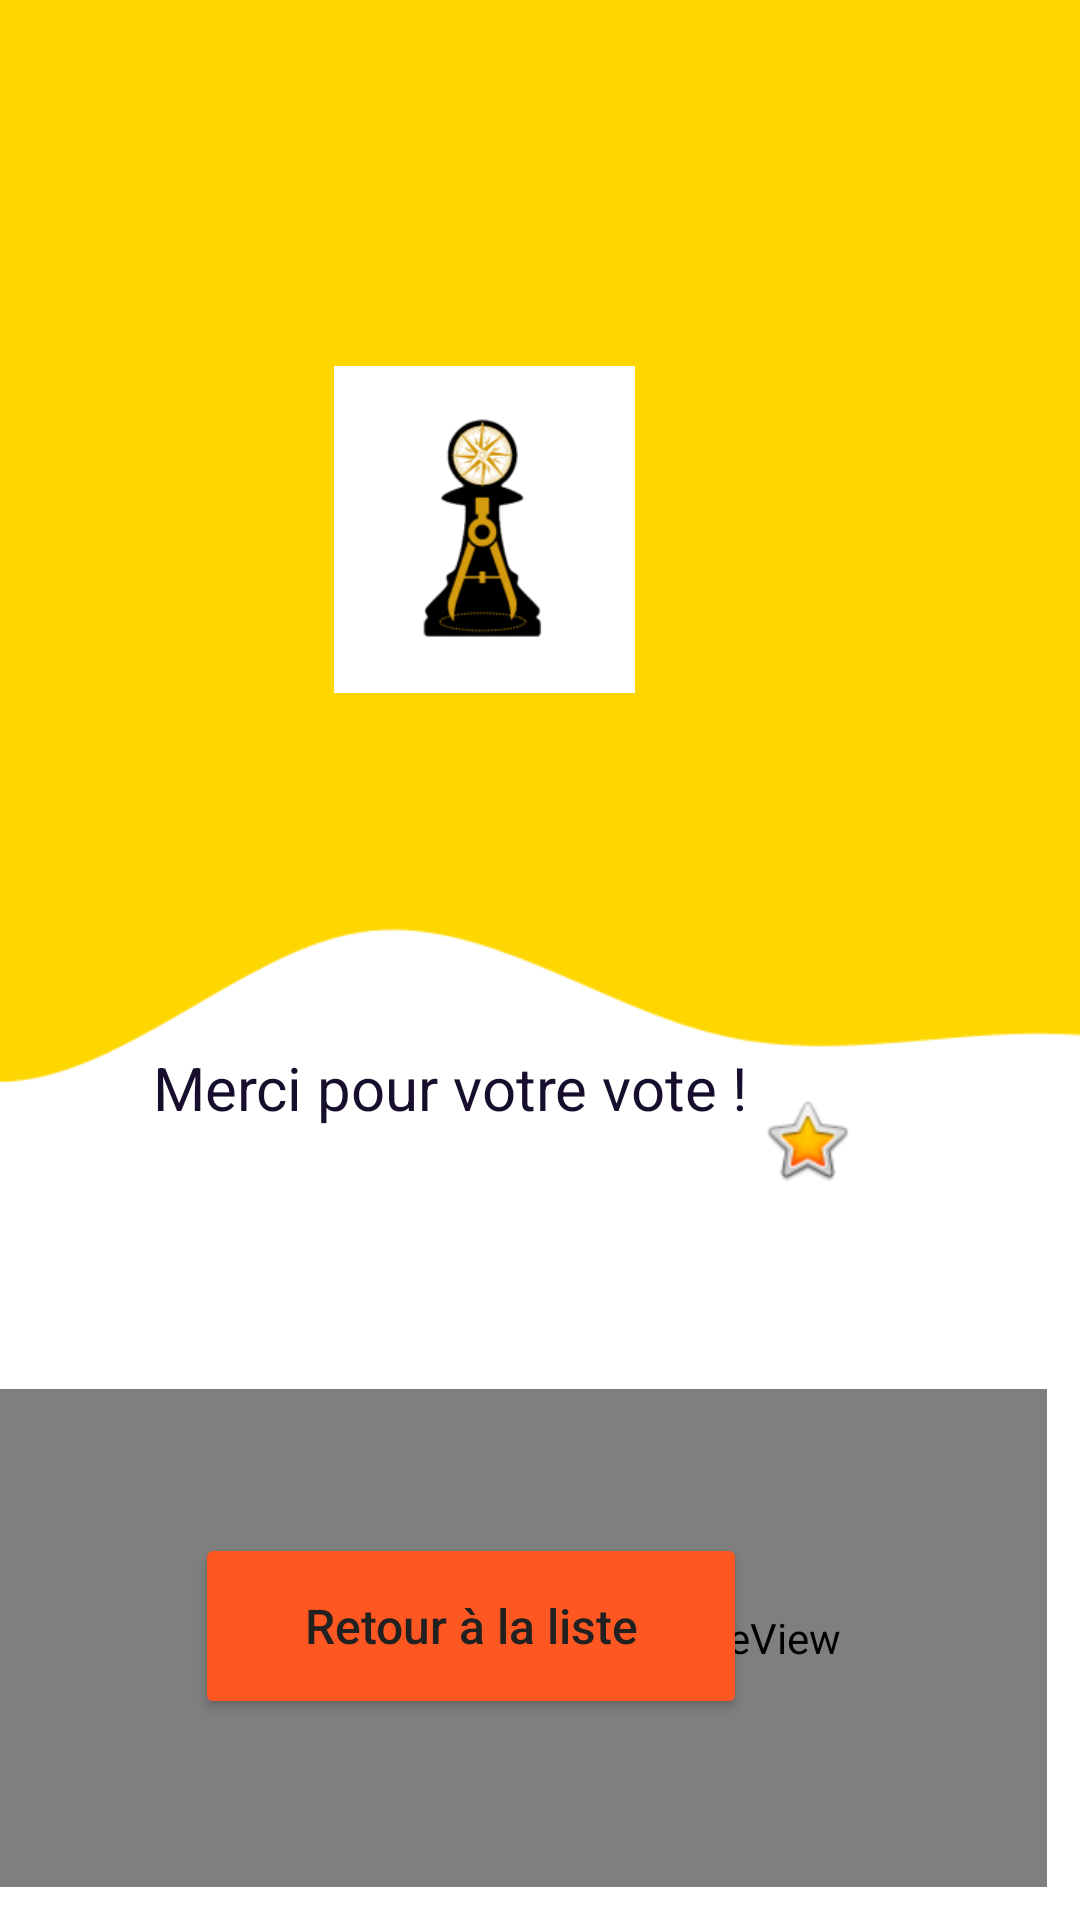

Icon click points for this 1080x1920 phone screenshot, format (x=x, y=y):
star on: (x=808, y=1141)
